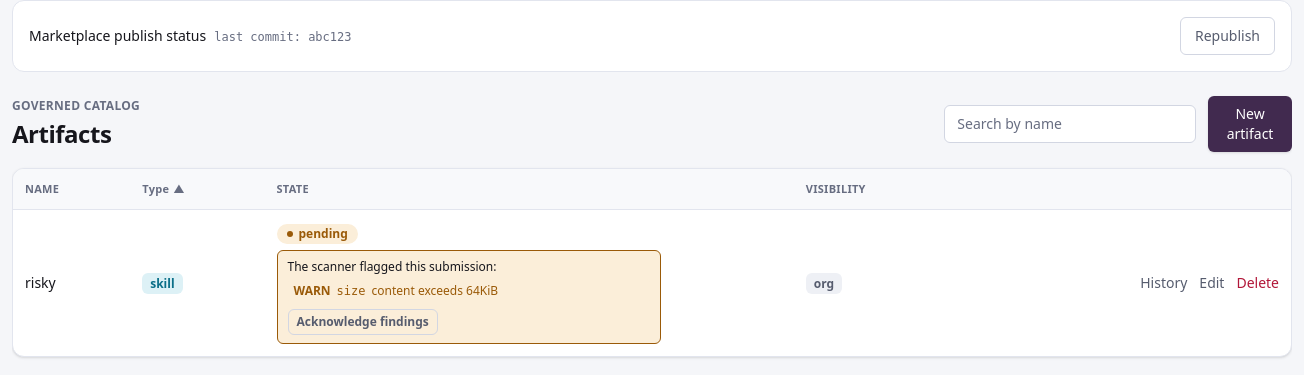
it: after acknowledging, the state visibly changes: the prompt disappears
This screenshot has width=1304, height=375.
Click the button "Acknowledge findings".
click(363, 322)  # box [288,309,438,335]
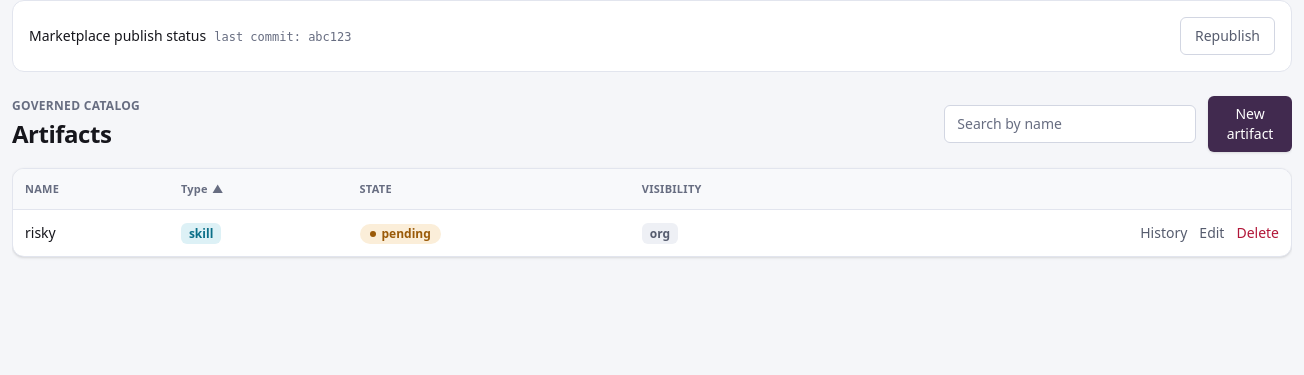
Now the button "Acknowledge findings" is gone
